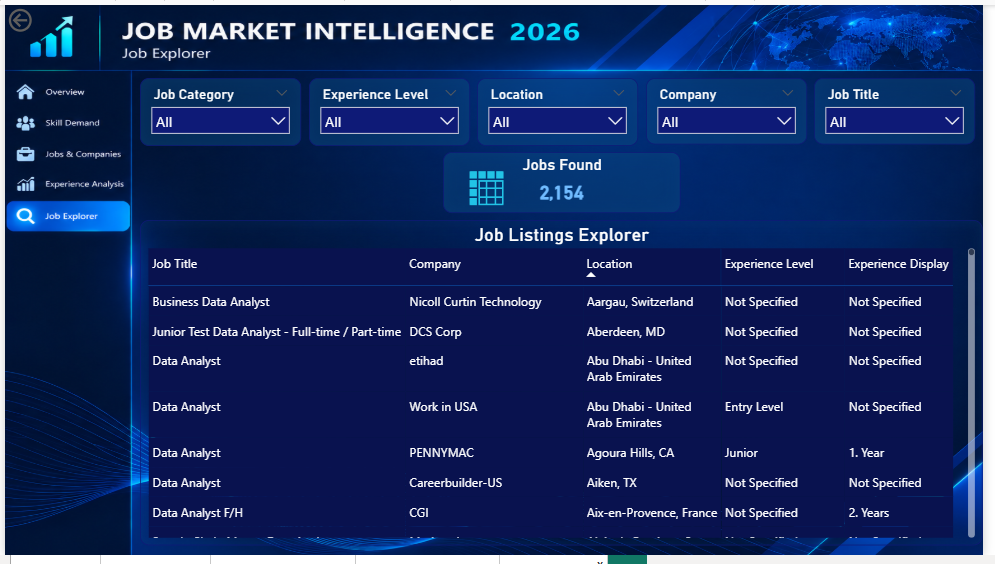

What the dashboard file says about the page in this screenshot:
{"tool":"powerbi","page":{"name":"Job Explorer","canvas":[1280,720],"ordinal":4},"visuals":[{"type":"slicer","title":"Select Experience Level","fields":{"Values":["vacancies_cleaned.job_category"]},"box":[177.2,94.9,211.4,88.6],"z":0},{"type":"slicer","title":"Select Experience Level","fields":{"Values":["vacancies_cleaned.experience_level_clean"]},"box":[397.5,94.9,211.4,88.6],"z":1000},{"type":"slicer","title":"Select Experience Level","fields":{"Values":["vacancies_cleaned.company"]},"box":[839.2,94.9,211.4,87.3],"z":2000},{"type":"slicer","title":"Select Experience Level","fields":{"Values":["vacancies_cleaned.location"]},"box":[617.7,94.9,211.4,88.6],"z":3000},{"type":"tableEx","title":"Job Listings Explorer","fields":{"Values":["vacancies_cleaned.title","vacancies_cleaned.company","vacancies_cleaned.location","vacancies_cleaned.experience_level_clean","vacancies_cleaned.Experience Display"]},"box":[177.1,280.8,1103,426.2],"z":4000},{"type":"actionButton","box":[0,0,100,40],"z":5000},{"type":"slicer","title":"Select Experience Level","fields":{"Values":["vacancies_cleaned.title"]},"box":[1059.5,94.9,211.4,87.3],"z":6000},{"type":"card","title":"Jobs Found","fields":{"Values":["vacancies_cleaned.Total Vacancies"]},"box":[573.1,192.8,310.6,80.3],"z":7000},{"type":"actionButton","box":[0,132.5,162.7,40.3],"z":8000},{"type":"actionButton","box":[0,172.8,162.7,40.3],"z":9000},{"type":"actionButton","box":[0,92.2,162.7,40.3],"z":10000},{"type":"actionButton","box":[0,213.1,162.7,40.3],"z":11000},{"type":"actionButton","box":[0,253.4,162.7,40.3],"z":12000},{"type":"image","box":[601,213.3,59.5,53.3],"z":13000}]}

Visuals, with their boxes on the page's 1280x720 design canvas (x1, y1, x2, y2). These are canvas units, not pixel positions in the 995x564 screenshot, which may show the page scaled, cropped or inside an application window:
"Select Experience Level" slicer: [177,95,389,184]
"Select Experience Level" slicer: [398,95,609,184]
"Select Experience Level" slicer: [839,95,1051,182]
"Select Experience Level" slicer: [618,95,829,184]
"Job Listings Explorer" tableEx: [177,281,1280,707]
actionButton: [0,0,100,40]
"Select Experience Level" slicer: [1060,95,1271,182]
"Jobs Found" card: [573,193,884,273]
actionButton: [0,132,163,173]
actionButton: [0,173,163,213]
actionButton: [0,92,163,132]
actionButton: [0,213,163,253]
actionButton: [0,253,163,294]
image: [601,213,660,267]
